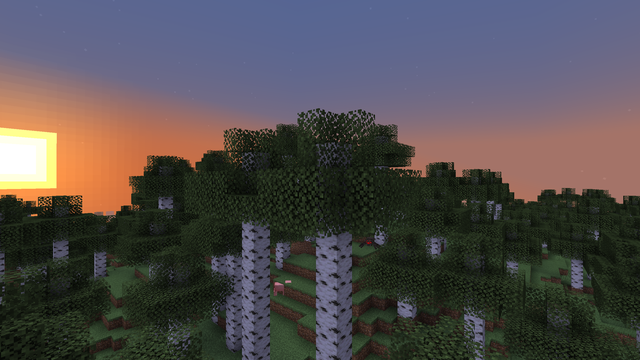araignees: (359, 237, 378, 250)
cochons: (273, 281, 284, 296)
